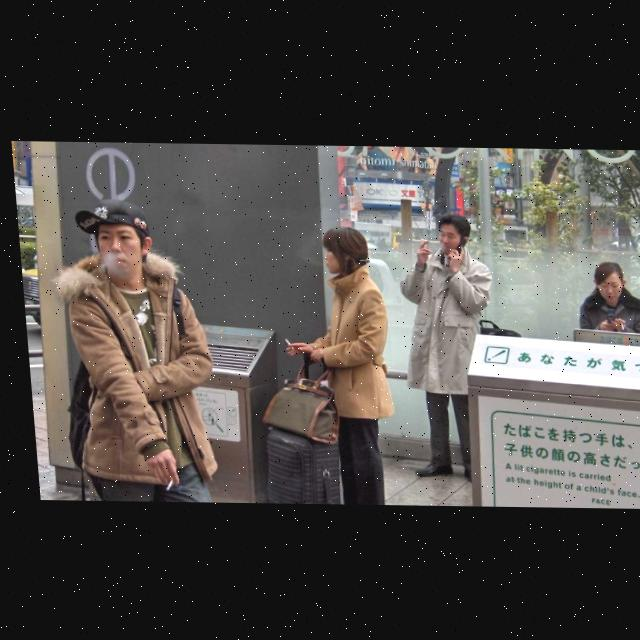cigarette: (279, 337, 288, 347), (158, 479, 166, 490), (616, 320, 619, 328), (416, 237, 424, 239)
